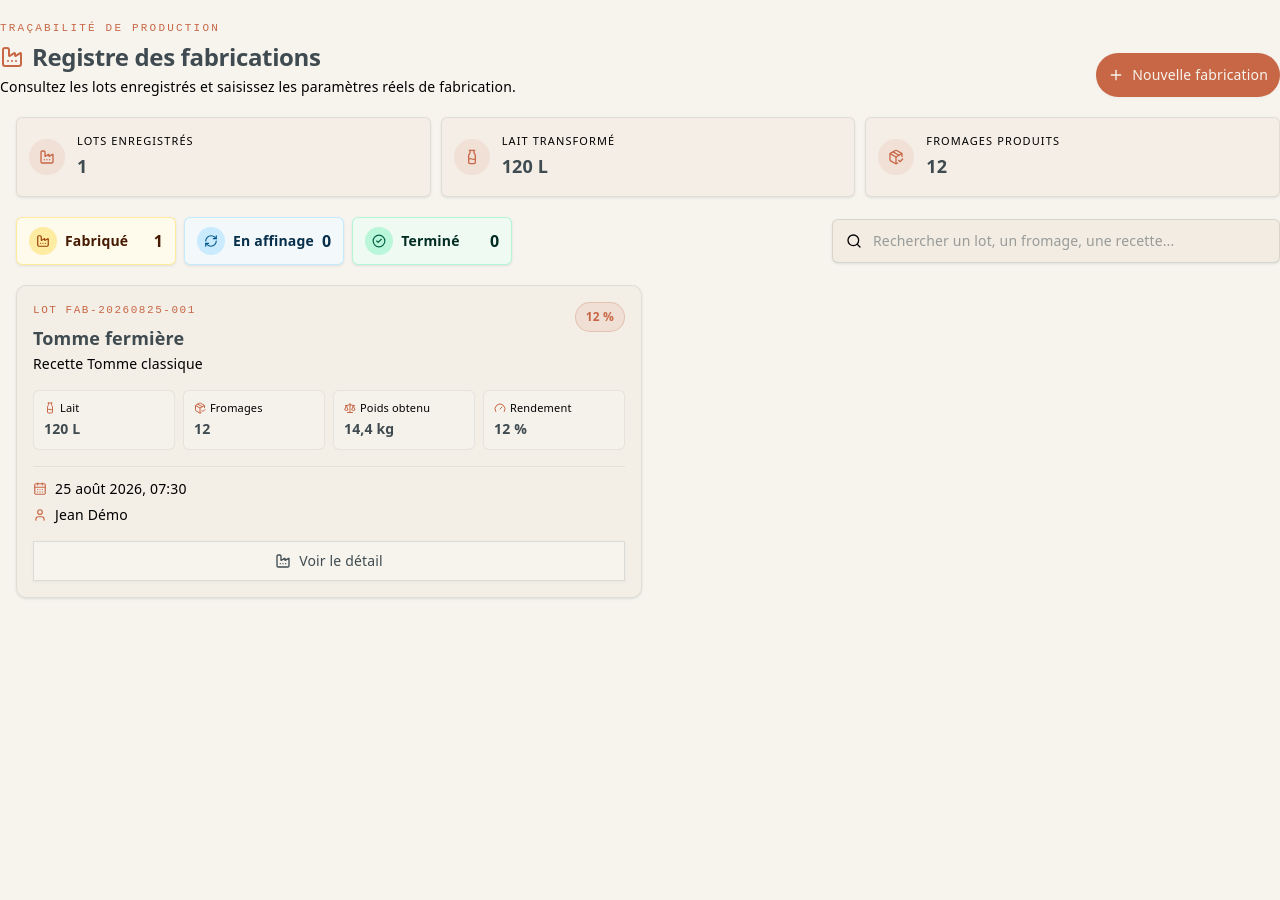
registre des fabrications › masque le passage en affinage si la fabrication possède déjà un lot
Click the button "Voir le détail" at {"x": 329, "y": 561}, box [33,541,625,581]
(page scrolled)
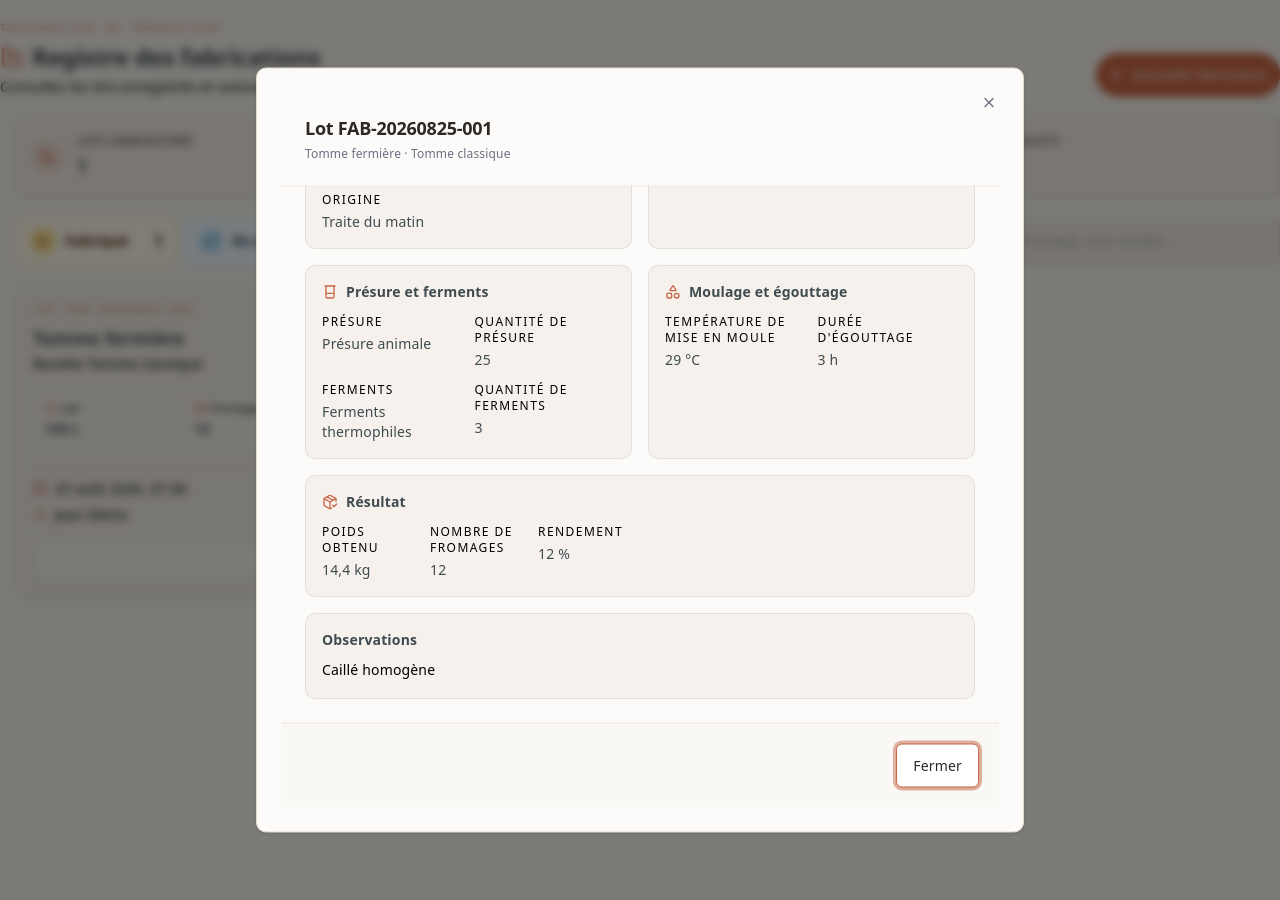
Now the text "Caillé homogène" is shown, box [322,660,435,679]
